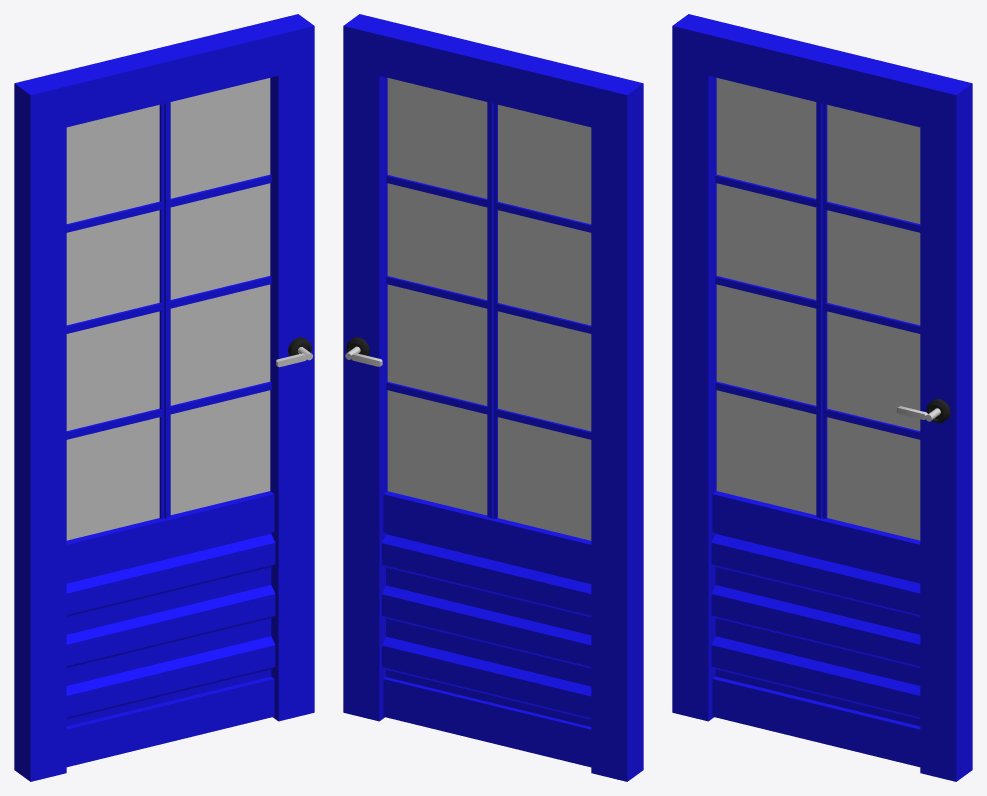
Rendered from Door.fbx.
The picture shows the model from 3 angles, left to right: view 1: azimuth 30°, elevation 25°; view 2: azimuth 150°, elevation 25°; view 3: azimuth 330°, elevation 25°; orthographic projection.
Visible parts, largest first — view 1: Door, Glass; view 2: Door, Glass; view 3: Door, Glass.
Boxes of the visible parts, x1,y1,x2,y2 form: Door: (14,14,314,781); Glass: (66,78,270,540); Door: (343,14,643,781); Glass: (387,78,591,540); Door: (672,14,972,781); Glass: (716,78,920,540).
Size of the model in its own units: 1.99 by 4.6 by 0.4716.
